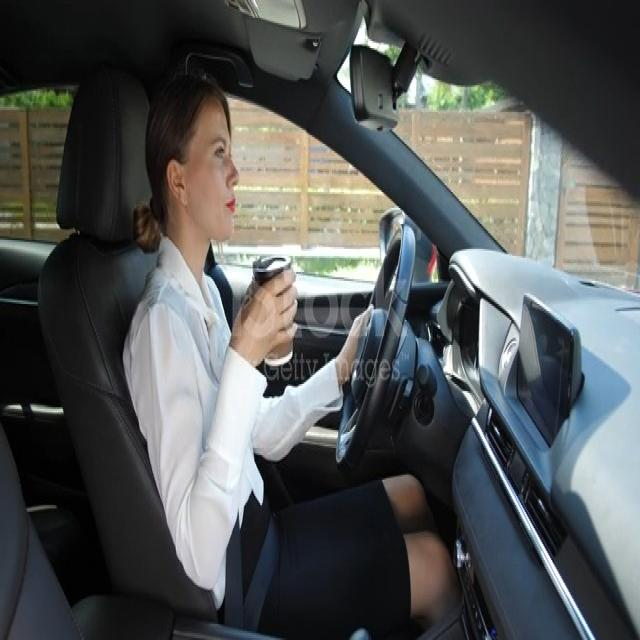Seatbelt: (140, 56, 311, 420)
